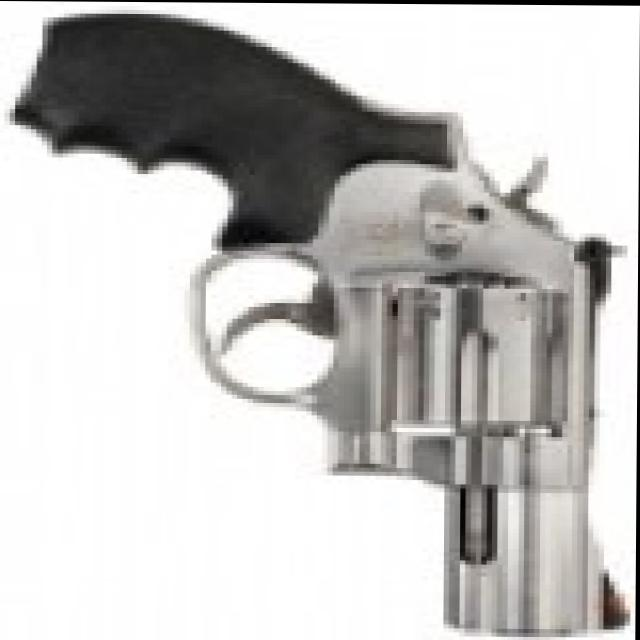handgun: (12, 24, 640, 628)
